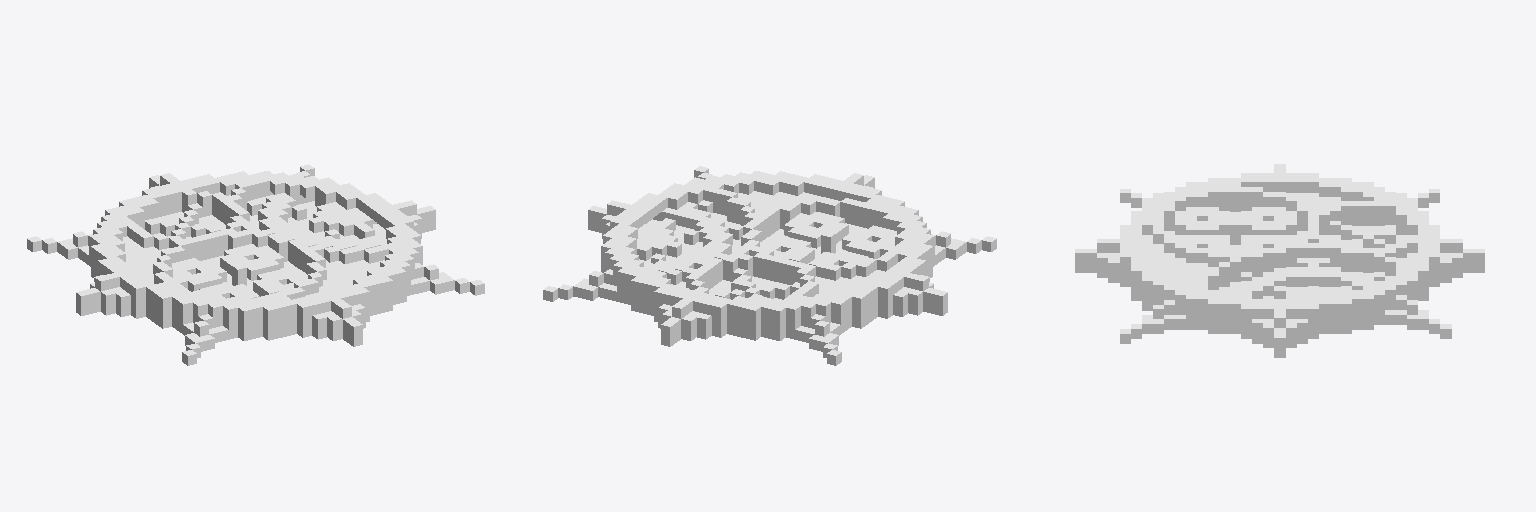
File: manhole.obj
3 renders of one model, left to right at view 1: azimuth 30°, elevation 25°; view 2: azimuth 150°, elevation 25°; view 3: azimuth 270°, elevation 25°, orthographic.
Visible parts, largest first — view 1: manhole; view 2: manhole; view 3: manhole.
Boxes of the visible parts, x1,y1,x2,y2 form: manhole: [27, 164, 484, 365]; manhole: [543, 166, 996, 365]; manhole: [1075, 164, 1484, 357].
Bounding box in the file's own units: 37 × 3 × 37.